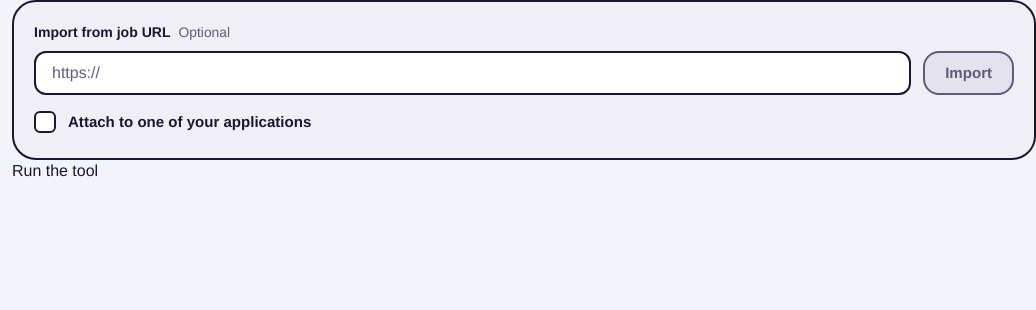
JobImportCard › importing from a URL › leaves the job description alone and says so for a page the importer marks unreadable (D03)
In the field labelled "Import from job URL Optional": (473, 73) [52, 53, 893, 93], type "https://jobs.example.com/backend"
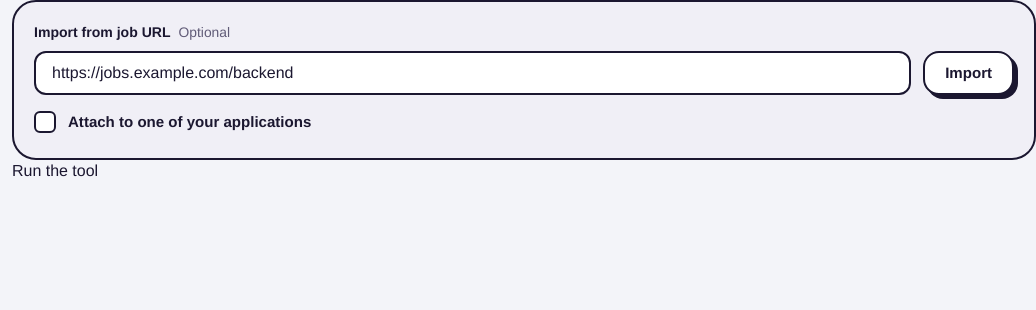
Click the button "Import": (969, 73) [923, 51, 1014, 95]
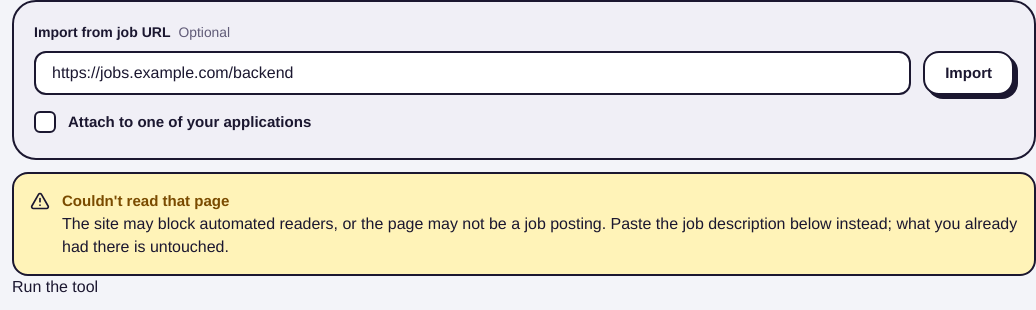
Check: the text "Couldn't read that page" is shown, box [62, 190, 229, 210]
Check: the text "Paste the job description below instead" is shown, box [62, 214, 1017, 256]
